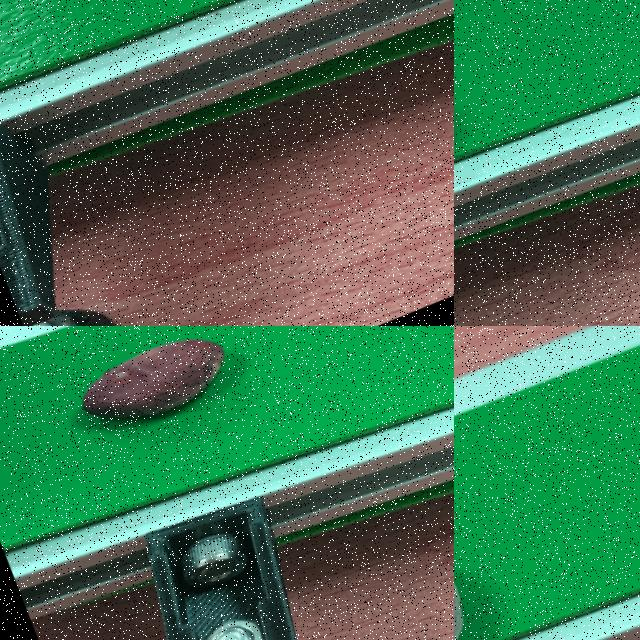Agglomerated_cocoabeans: (454, 384, 612, 639), (454, 0, 528, 263)
Fine_cocoabeans: (0, 326, 348, 510)
Flat_cocoabeans: (0, 0, 325, 82)
